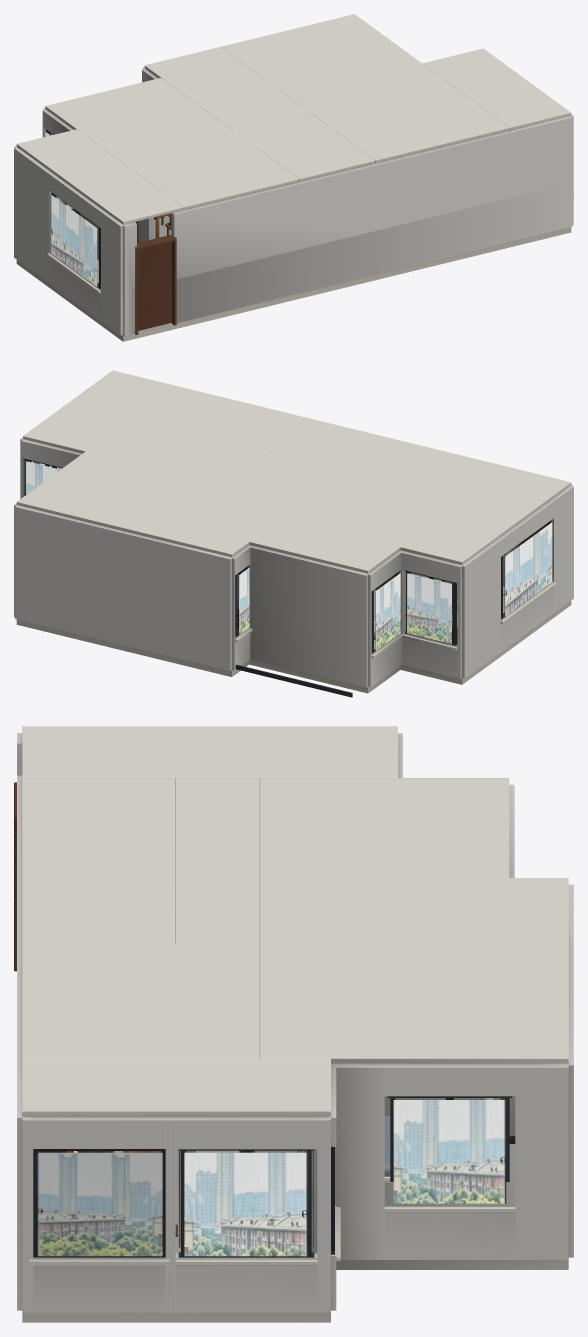
Rendered from house.glb.
3 views of the same model, one above another, from view 1: azimuth 30°, elevation 25°; view 2: azimuth 150°, elevation 25°; view 3: azimuth 270°, elevation 25° (orthographic). The views are drawn at different scales.
Visible parts, largest first — view 1: shell__walk__white, shell__walk__wall, shell__orbit__wall, shell__shared__wall, balcony__shared__wall__Study south solid wall, shell__shared__source_2232ebe0, shell__shared__source_609be1f6, shell__walk__walnutDark, shell__walk__walnut; view 2: shell__walk__white, shell__shared__wall, shell__shared__source_2232ebe0, shell__shared__source_609be1f6, shell__shared__source_8985658d, shell__shared__graphite, shell__shared__source_6bc1db3e, shell__shared__white, shell__shared__source_c2ba2d56, shell__shared__source_dc4e3a3, shell__walk__wall; view 3: shell__walk__white, shell__walk__wall, balcony__shared__wall__Full study side window, balcony__shared__source_b7e642cb__Full study side window, shell__walk__source_b7e642cb, shell__walk__source_aac7d18d, shell__shared__source_2232ebe0, shell__shared__wall, shell__walk__graphite, shell__orbit__wall, balcony__shared__graphite__Full study side window, balcony__shared__wall__Study south solid wall (+2 smaller).
Part boxes in pixels (box(x1,y1,x2,y2)): shell__walk__white: box(16, 14, 571, 224); shell__walk__wall: box(84, 131, 510, 335); shell__orbit__wall: box(123, 183, 572, 335); shell__shared__wall: box(14, 67, 157, 335); balcony__shared__wall__Study south solid wall: box(509, 116, 572, 197); shell__shared__source_2232ebe0: box(16, 227, 571, 341); shell__shared__source_609be1f6: box(50, 194, 97, 286); shell__walk__walnutDark: box(138, 242, 172, 330); shell__walk__walnut: box(135, 221, 176, 334); shell__walk__white: box(16, 370, 571, 573); shell__shared__wall: box(15, 439, 573, 687); shell__shared__source_2232ebe0: box(16, 601, 571, 693); shell__shared__source_609be1f6: box(504, 522, 552, 616); shell__shared__source_8985658d: box(406, 573, 451, 644); shell__shared__graphite: box(23, 458, 551, 697); shell__shared__source_6bc1db3e: box(375, 573, 400, 651); shell__shared__white: box(235, 582, 555, 658); shell__shared__source_c2ba2d56: box(239, 567, 249, 634); shell__shared__source_dc4e3a3: box(25, 461, 60, 495); shell__walk__wall: box(14, 437, 572, 630); shell__walk__white: box(22, 726, 568, 1265); shell__walk__wall: box(17, 733, 568, 1312); balcony__shared__wall__Full study side window: box(22, 1116, 175, 1312); balcony__shared__source_b7e642cb__Full study side window: box(36, 1152, 162, 1256); shell__walk__source_b7e642cb: box(184, 1152, 308, 1256); shell__walk__source_aac7d18d: box(393, 1100, 506, 1203); shell__shared__source_2232ebe0: box(22, 1260, 568, 1322); shell__shared__wall: box(326, 733, 573, 1310); shell__walk__graphite: box(178, 1096, 512, 1257); shell__orbit__wall: box(17, 1096, 515, 1310); balcony__shared__graphite__Full study side window: box(33, 1149, 165, 1257); balcony__shared__wall__Study south solid wall: box(17, 1064, 22, 1232).
Size of the model in its own units: 12.53 by 3.14 by 7.54.
179 materials, 55 textured.
